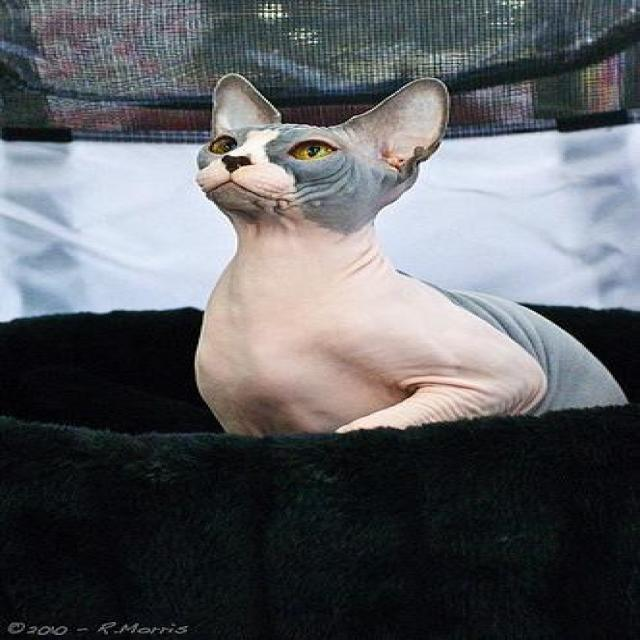cat: (192, 72, 628, 430)
